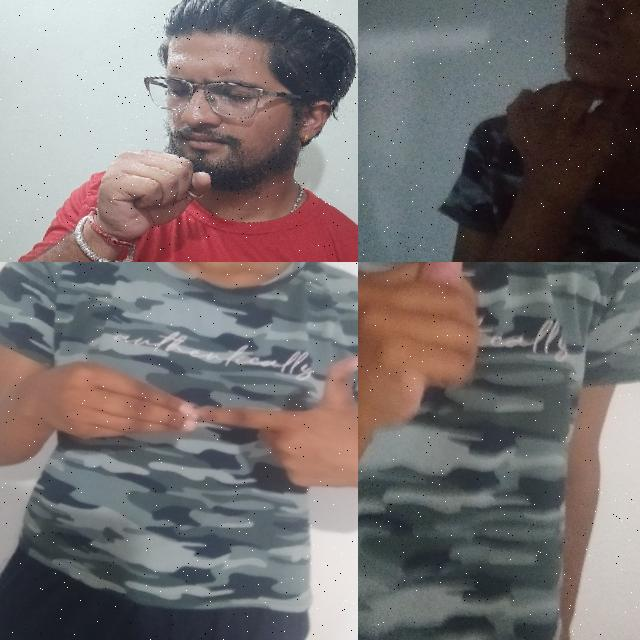Chin Flick: (474, 0, 640, 238)
Dulya: (358, 262, 505, 481)
Fist Mouth: (69, 0, 358, 262)
Five Fathers: (15, 293, 358, 521)
